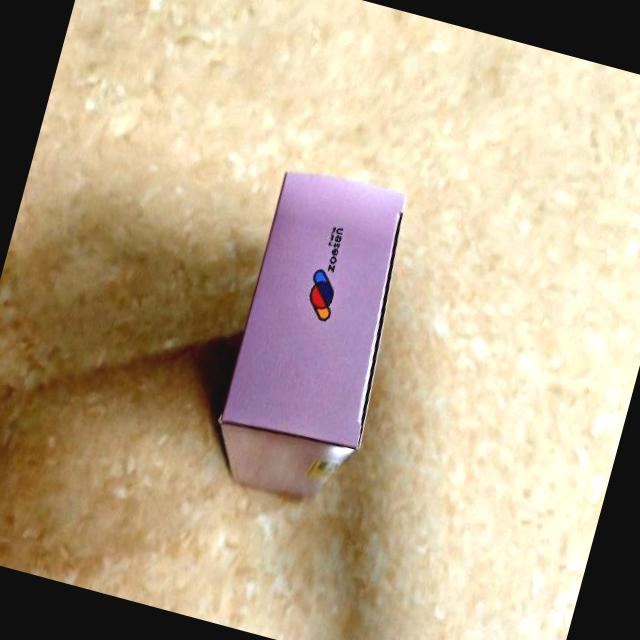box: (201, 160, 427, 515)
